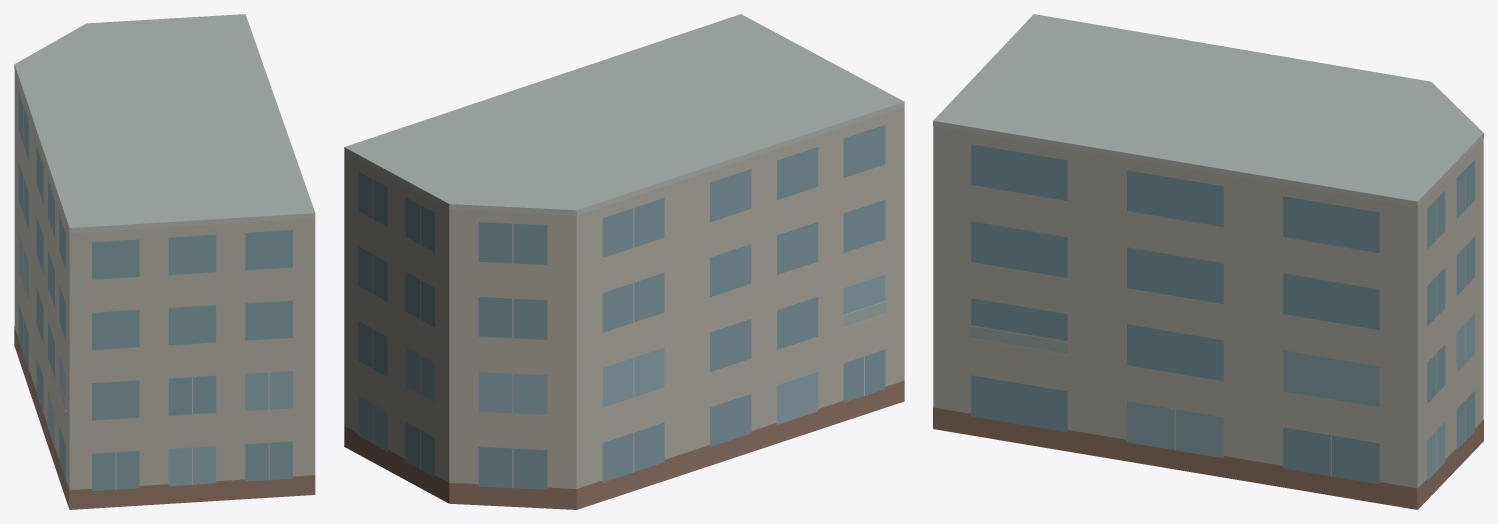
Rendered from survey-upis-32825490.glb.
The picture shows the model from 3 angles, left to right: view 1: azimuth 30°, elevation 25°; view 2: azimuth 150°, elevation 25°; view 3: azimuth 270°, elevation 25°; orthographic projection. The views are drawn at different scales.
Visible parts, largest first — view 1: survey-upis-32825490.tmp; view 2: survey-upis-32825490.tmp; view 3: survey-upis-32825490.tmp.
Boxes of the visible parts, bbox=[...] form: survey-upis-32825490.tmp: bbox=[14, 14, 315, 509]; survey-upis-32825490.tmp: bbox=[344, 14, 904, 509]; survey-upis-32825490.tmp: bbox=[933, 14, 1483, 509].
Size of the model in its own units: 17.63 by 13.5 by 21.87.
